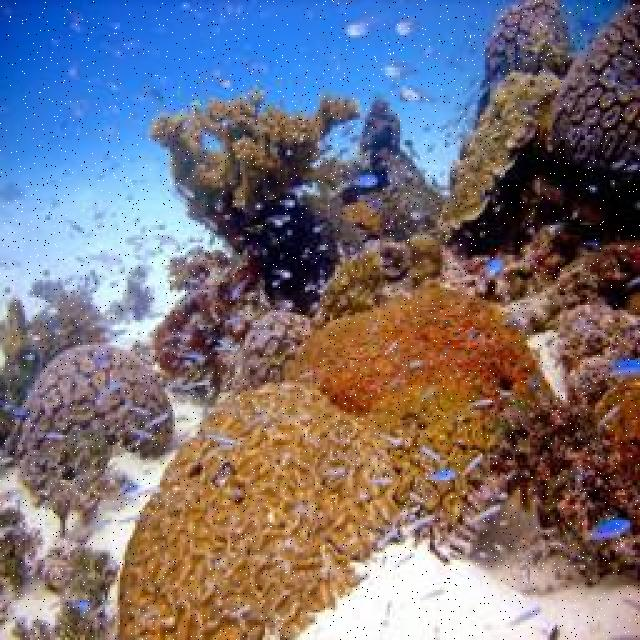reefs: (117, 286, 571, 638), (150, 84, 361, 242), (2, 343, 176, 461)
